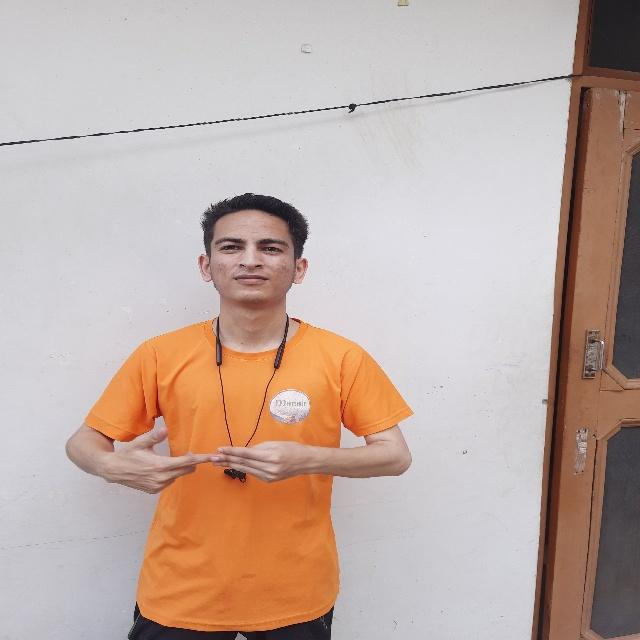Five Fathers: (102, 417, 332, 503)
